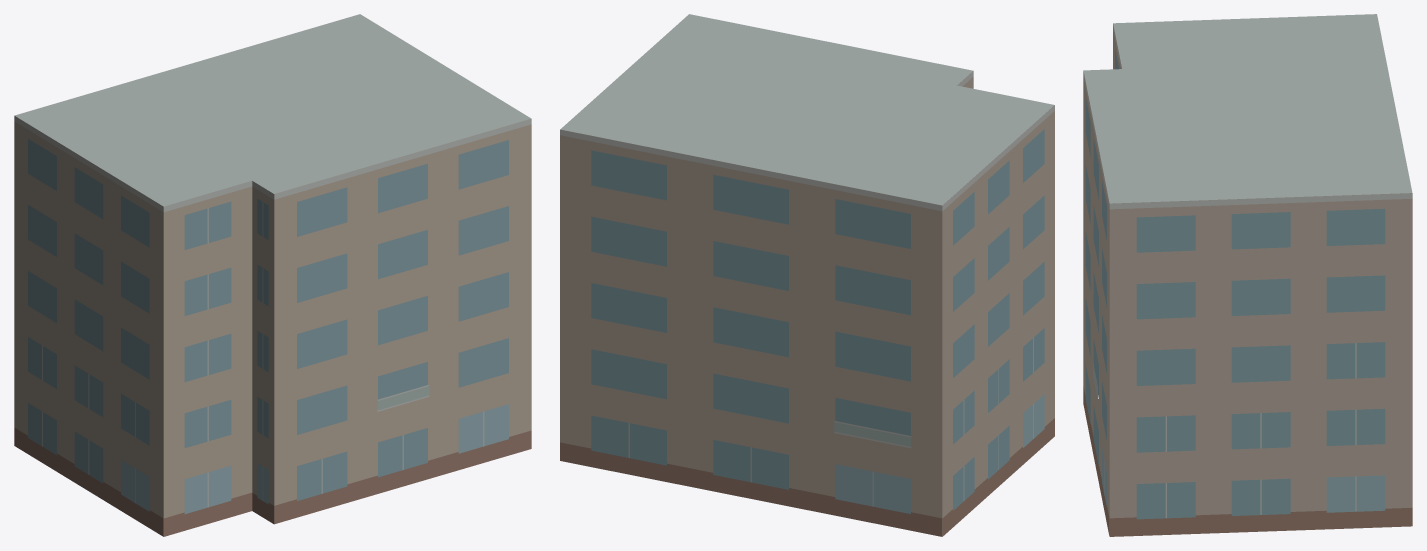
File: survey-upis-32750138.glb
3 renders of one model, left to right at view 1: azimuth 30°, elevation 25°; view 2: azimuth 150°, elevation 25°; view 3: azimuth 270°, elevation 25°, orthographic.
Parts seen in each view (by area): view 1: survey-upis-32750138.tmp; view 2: survey-upis-32750138.tmp; view 3: survey-upis-32750138.tmp.
Part boxes in pixels (x1,y1,x2,y2): survey-upis-32750138.tmp: [14, 14, 531, 536]; survey-upis-32750138.tmp: [560, 14, 1054, 536]; survey-upis-32750138.tmp: [1083, 14, 1412, 536].
Size of the model in its own units: 17.21 by 14.1 by 12.63.
